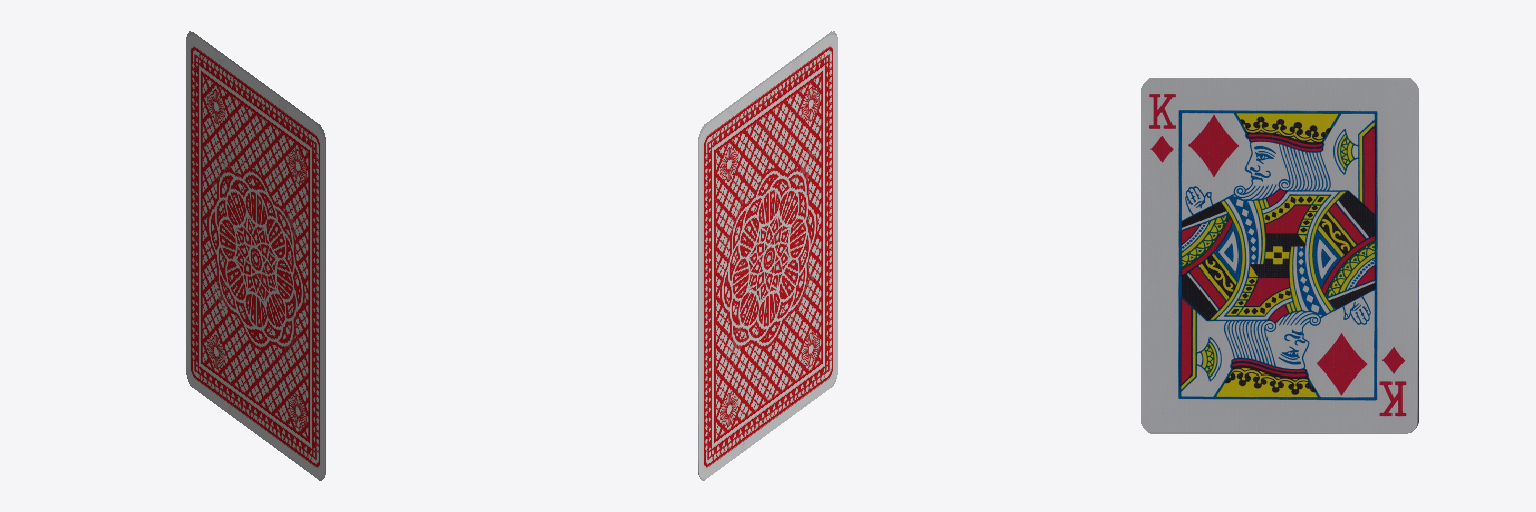
3 renders of one model, left to right at view 1: azimuth 30°, elevation 25°; view 2: azimuth 150°, elevation 25°; view 3: azimuth 270°, elevation 25°, orthographic.
Parts seen in each view (by area): view 1: Cube; view 2: Cube; view 3: Cube.
Boxes of the visible parts, box(x1,y1,x2,y2) form: Cube: box(186, 31, 325, 480); Cube: box(698, 31, 837, 480); Cube: box(1141, 78, 1418, 433).
Bounding box in the file's own units: 0.0005 × 0.1524 × 0.1085.
2 materials, 2 textured.